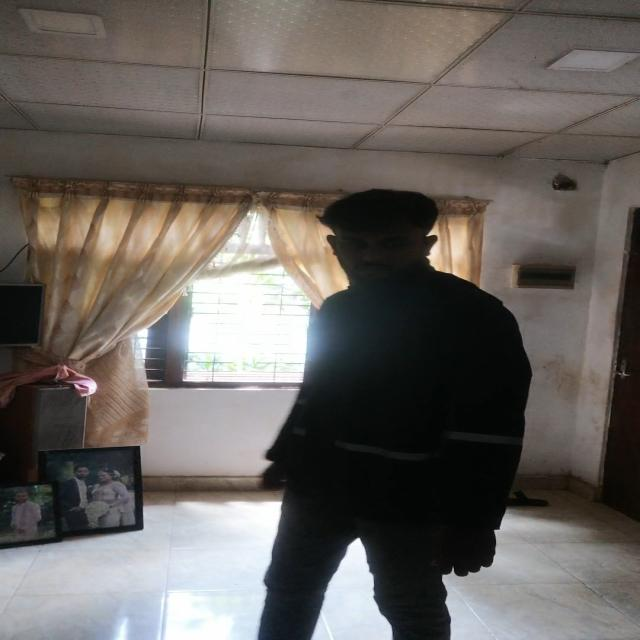Jacket_Wearer: (244, 271, 530, 546)
Person: (244, 176, 532, 636)
